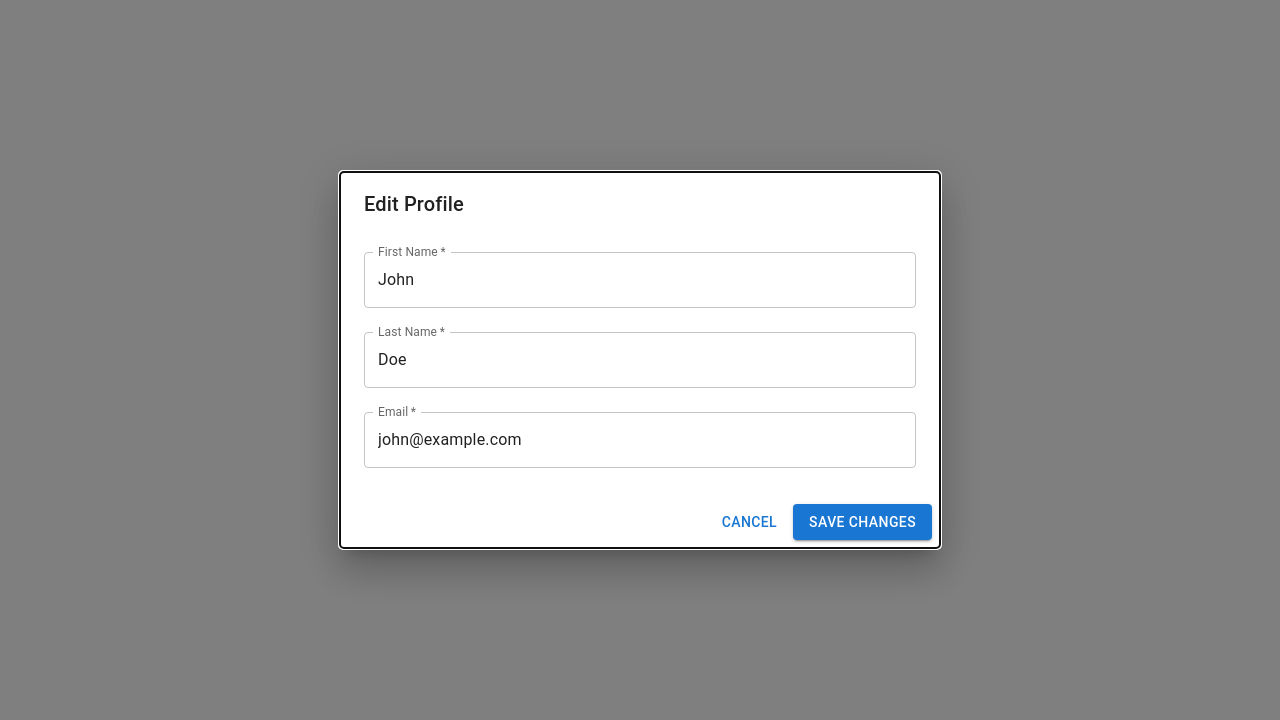
Test: ProfileEditDialog › handles submission error
Step 1. Click the button "Save Changes" → [863, 522], box [793,504,932,540]
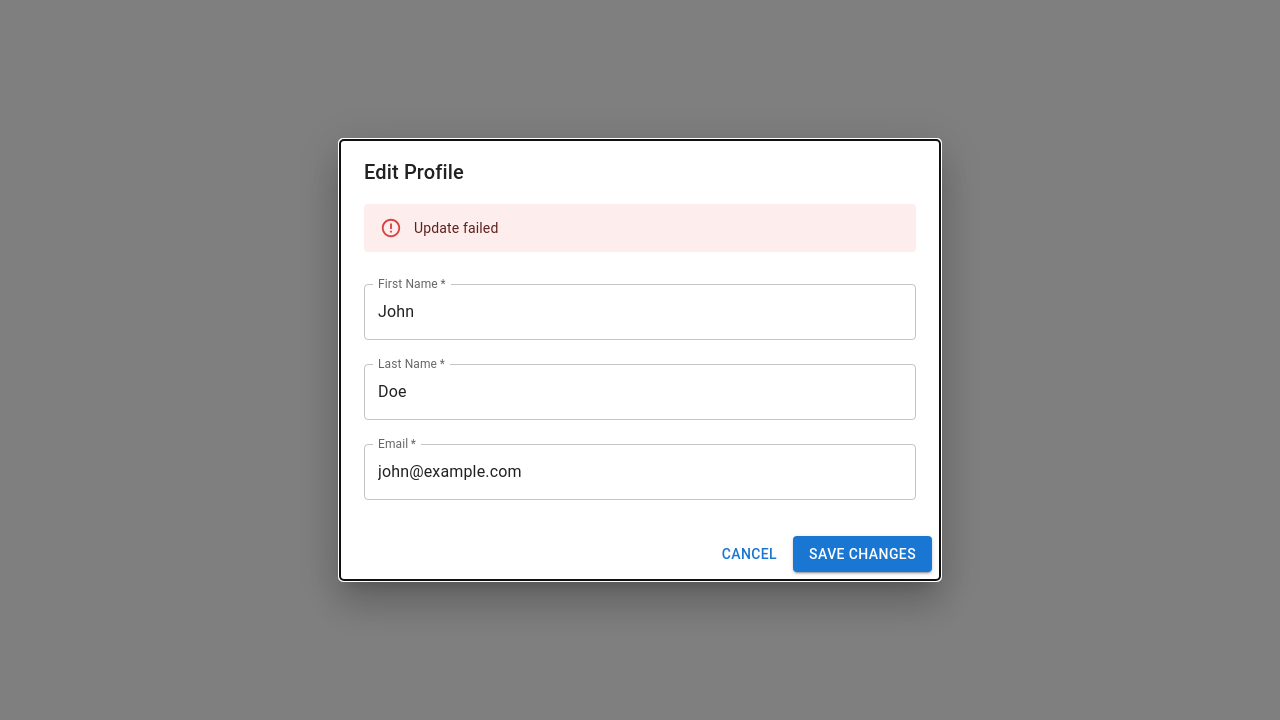
Check: the text "Update failed" is shown, box [414,220,498,236]
